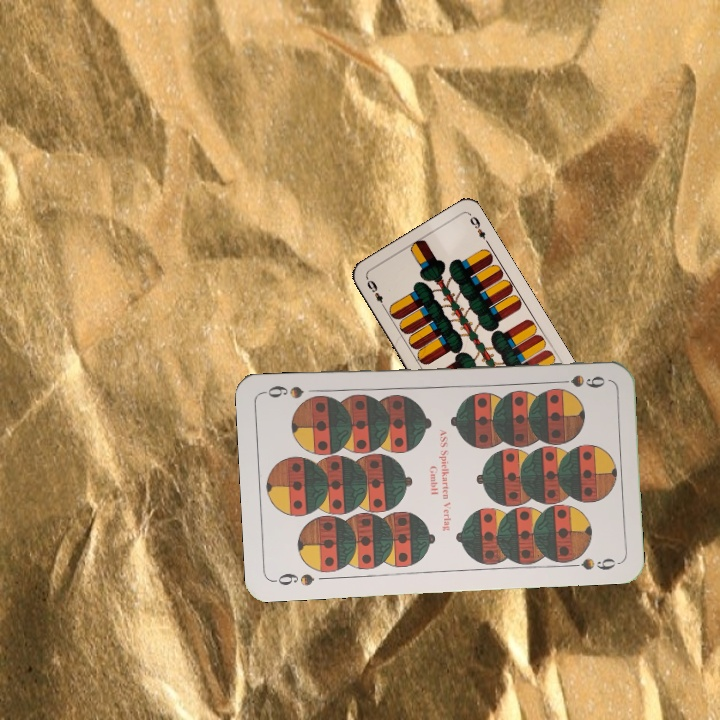E9: (363, 275, 389, 311)
S9: (550, 371, 608, 391), (269, 569, 317, 589)
